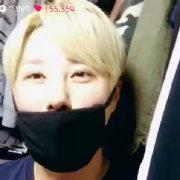WRONG: (10, 57, 107, 154)
